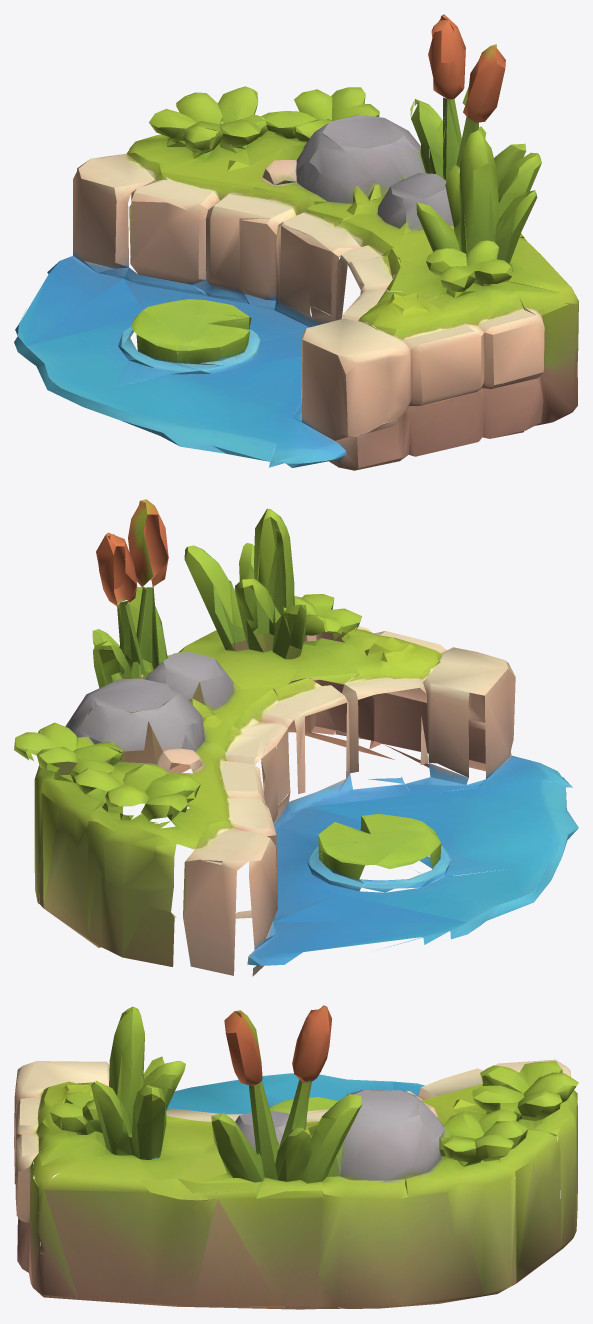
The model's file is M-6_09_pond.glb.
3 renders of one model, top to bottom at view 1: azimuth 30°, elevation 25°; view 2: azimuth 150°, elevation 25°; view 3: azimuth 270°, elevation 25°, orthographic. The views are drawn at different scales.
Parts seen in each view (by area): view 1: M-6_09_pond; view 2: M-6_09_pond; view 3: M-6_09_pond.
Part boxes in pixels (x1=…): M-6_09_pond: x1=14, y1=14, x2=578, y2=470; M-6_09_pond: x1=14, y1=499, x2=578, y2=976; M-6_09_pond: x1=14, y1=1005, x2=578, y2=1309.
Bounding box in the file's own units: 5.43 × 3.5 × 6.03.
2 materials, 2 textured.
